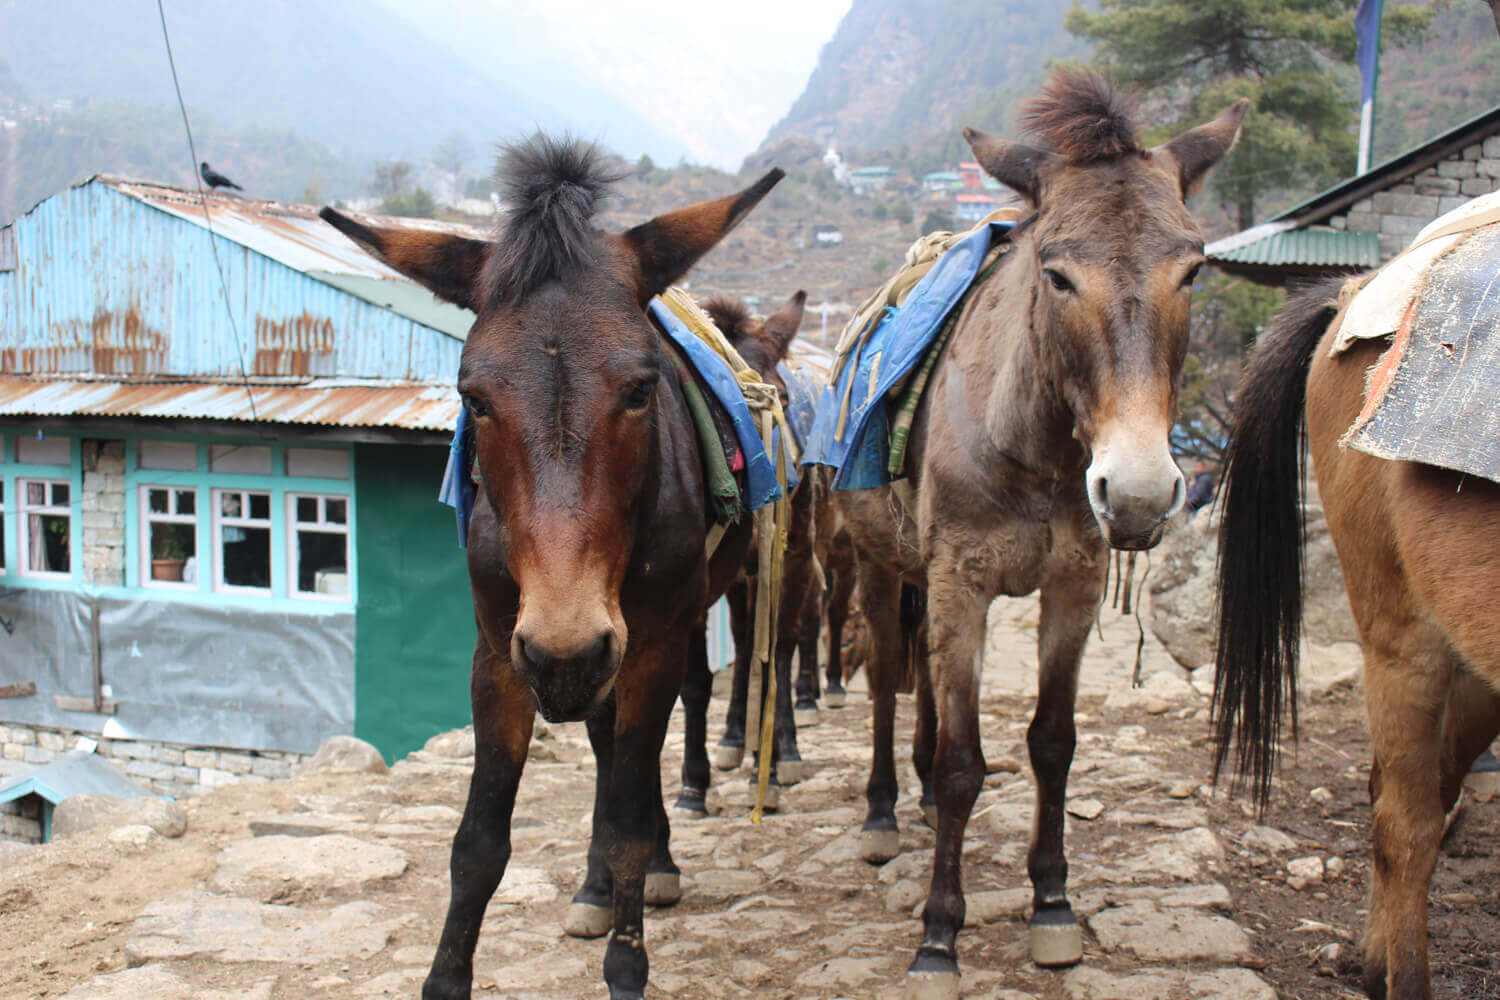equine: (787, 93, 1256, 1000), (305, 145, 776, 1000), (1208, 200, 1500, 1000)
